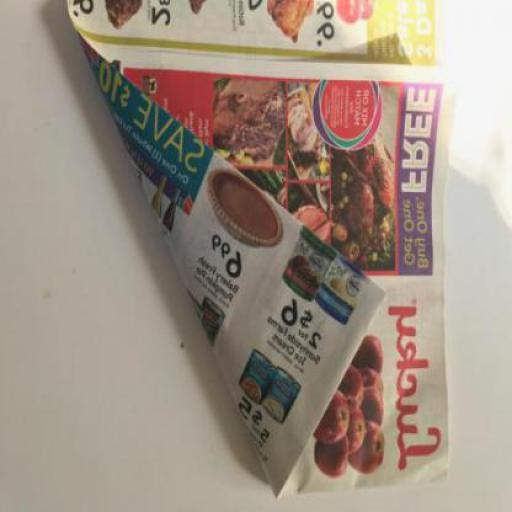paper: (68, 0, 459, 490)
